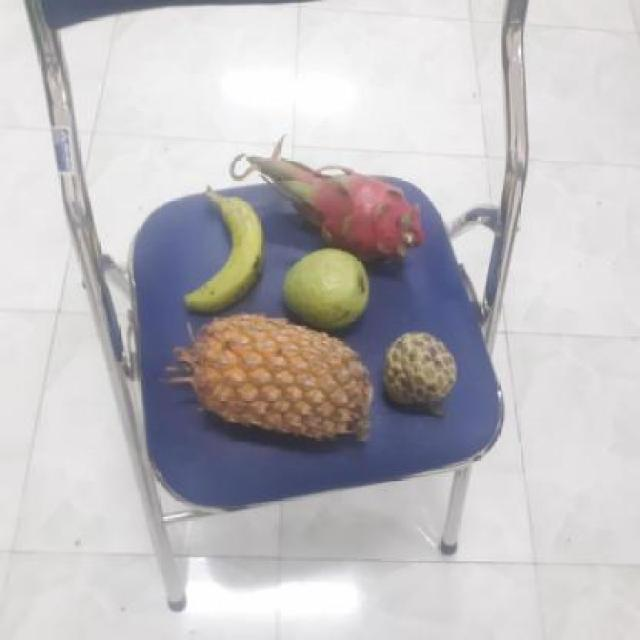banana: (182, 192, 266, 312)
dragon fruit: (284, 171, 418, 266)
guava: (277, 250, 372, 332)
pineapple: (174, 314, 374, 444)
sugar apple: (377, 332, 455, 410)
